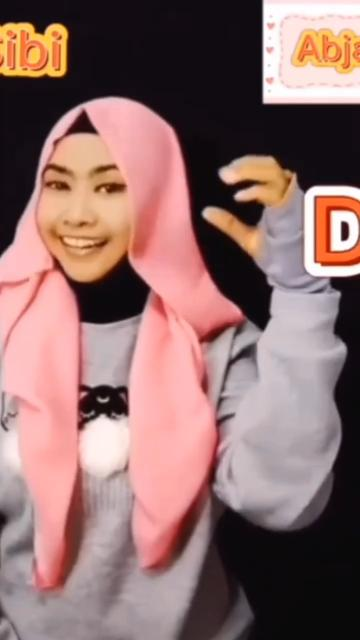C: (198, 152, 304, 264)
